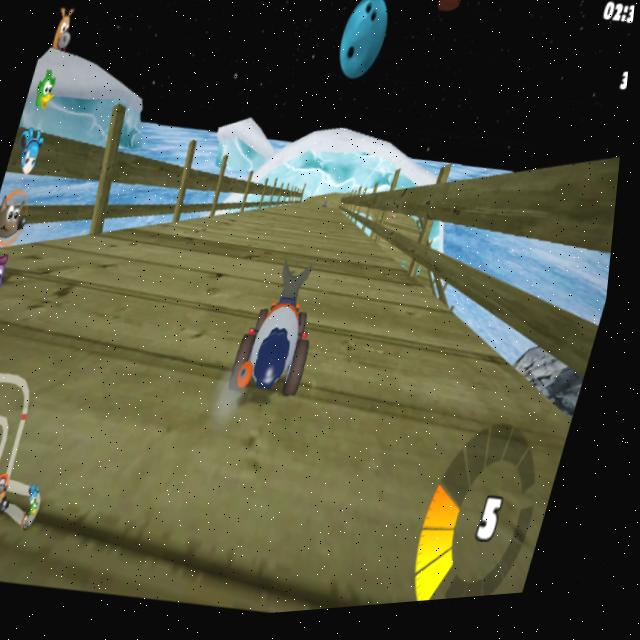track: (230, 255, 343, 406), (260, 199, 359, 262)
